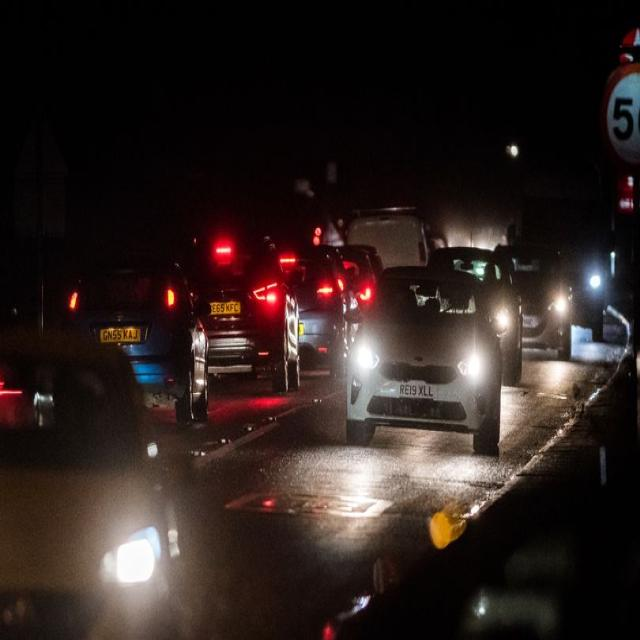car: (0, 324, 182, 639), (339, 269, 497, 446), (58, 255, 212, 428), (178, 228, 302, 394), (428, 246, 522, 382), (276, 248, 351, 379), (492, 243, 571, 362)
